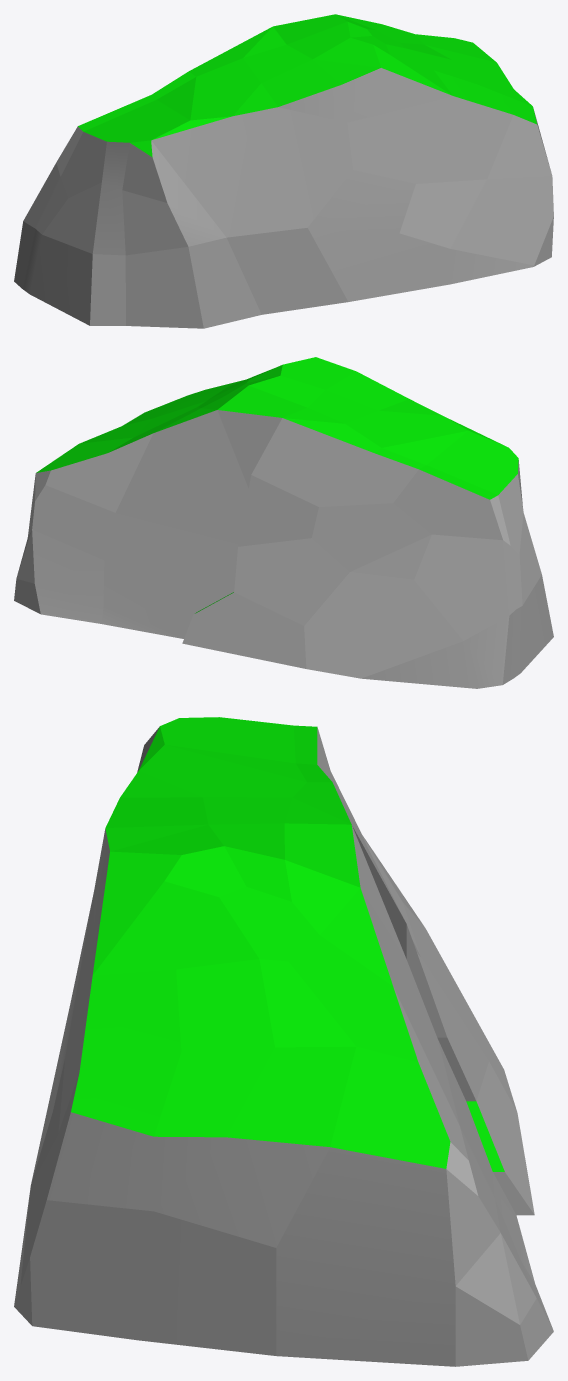
File: rock_beach_big_D.fbx
3 renders of one model, top to bottom at view 1: azimuth 30°, elevation 25°; view 2: azimuth 150°, elevation 25°; view 3: azimuth 270°, elevation 25°, orthographic. The views are drawn at different scales.
Visible parts, largest first — view 1: rock_beach_big_D; view 2: rock_beach_big_D; view 3: rock_beach_big_D.
Boxes of the visible parts, left/top/right/bottom form: rock_beach_big_D: left=14, top=14, right=553, bottom=328; rock_beach_big_D: left=14, top=357, right=553, bottom=688; rock_beach_big_D: left=14, top=717, right=553, bottom=1366.
Bounding box in the file's own units: 184 × 78.25 × 106.
